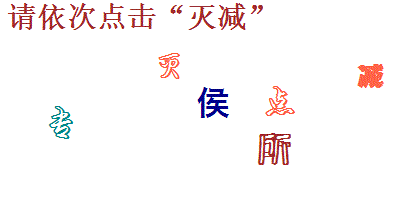text: (257, 131, 293, 166), (197, 85, 229, 120), (47, 105, 75, 141), (265, 85, 296, 117), (355, 63, 386, 90), (157, 52, 181, 80)
